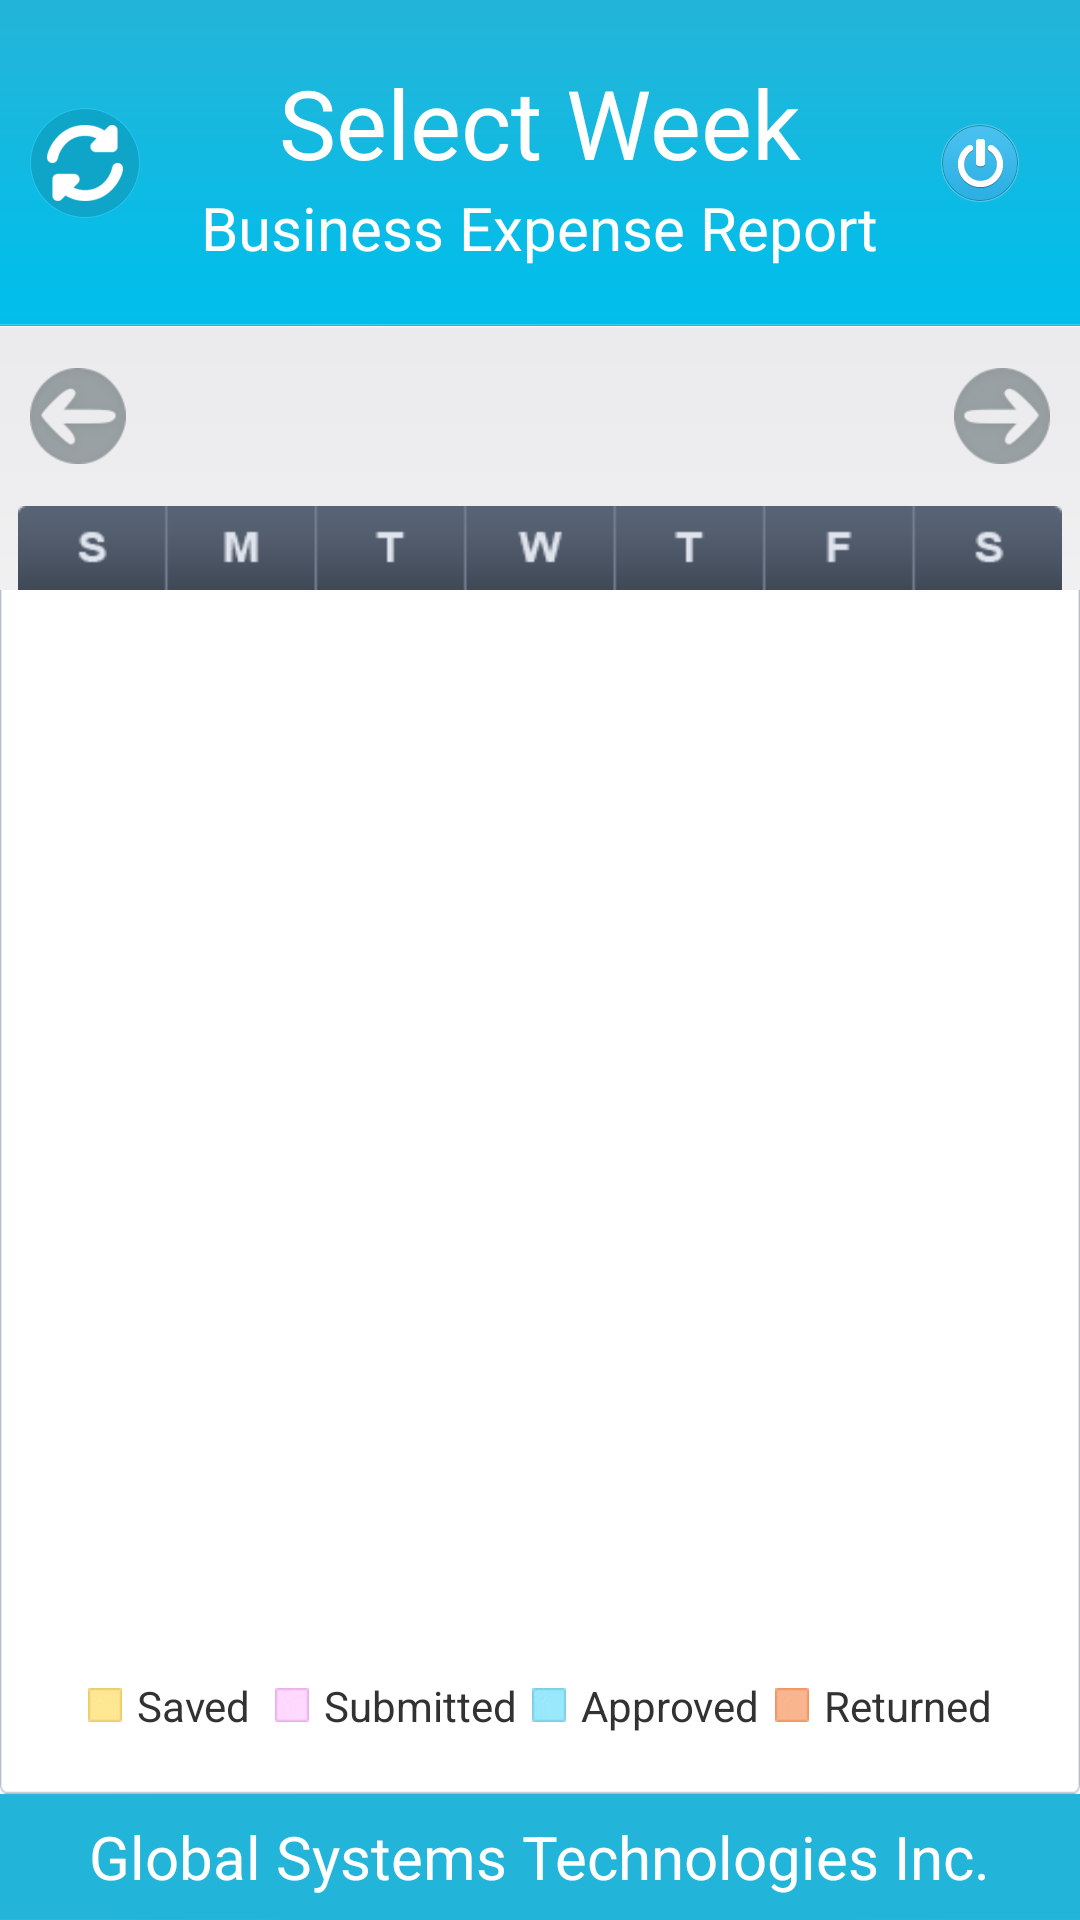

Icons on this 1080 × 1920 Android screen, each with the point to tap as [x,y]:
calendar left arrow: [78,416]
calendar right arrow: [1002,416]
refrshbtn: [85,178]
